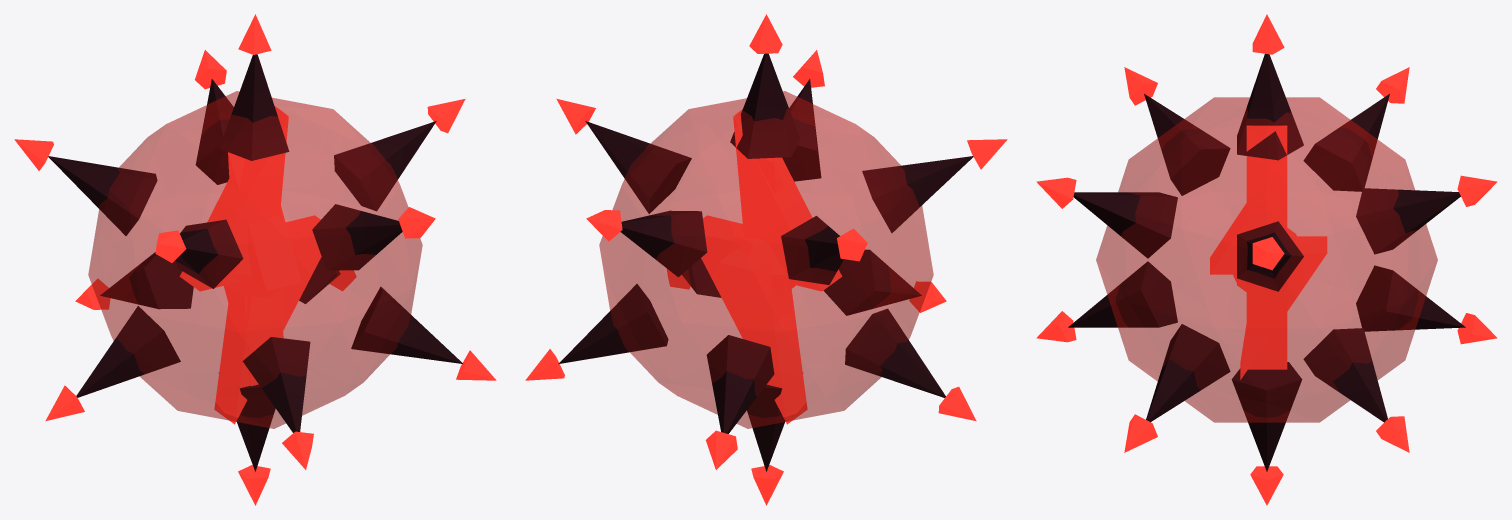
Rendered from burbuja_acoso.glb.
The picture shows the model from 3 angles, left to right: view 1: azimuth 30°, elevation 25°; view 2: azimuth 150°, elevation 25°; view 3: azimuth 270°, elevation 25°; orthographic projection.
Visible parts, largest first — view 1: burbuja_acoso; view 2: burbuja_acoso; view 3: burbuja_acoso.
Boxes of the visible parts, x1,y1,x2,y2 form: burbuja_acoso: (14,14,496,505); burbuja_acoso: (525,14,1007,505); burbuja_acoso: (1036,14,1497,505).
Size of the model in its own units: 0.2612 by 0.292 by 0.2484.
